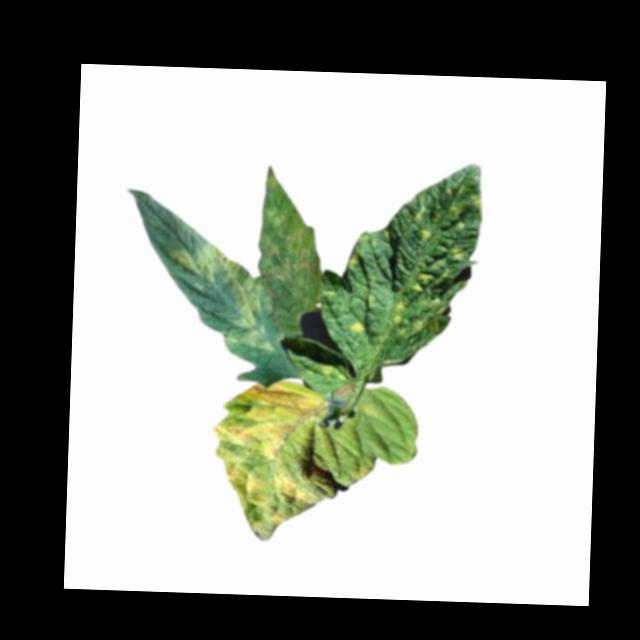Leaf_Mold: (207, 378, 377, 546), (389, 160, 482, 342), (168, 240, 276, 352), (258, 165, 324, 286), (348, 319, 364, 335), (318, 362, 333, 375)
